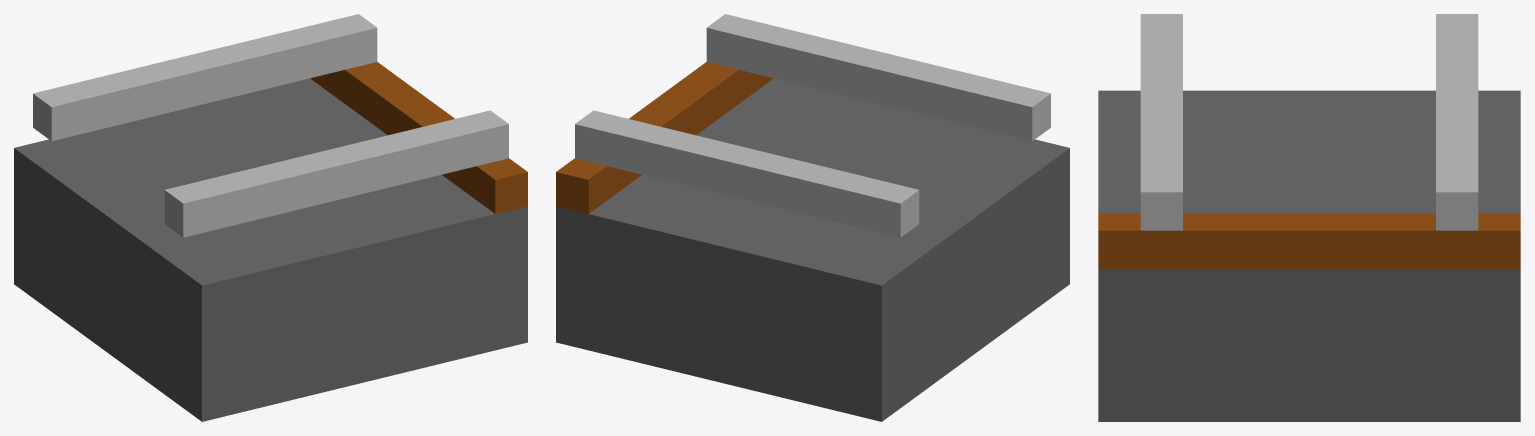
File: RailRoad0.obj
3 views of the same model, side by side, from view 1: azimuth 30°, elevation 25°; view 2: azimuth 150°, elevation 25°; view 3: azimuth 270°, elevation 25° (orthographic). The views are drawn at different scales.
Size of the model in its own units: 1 by 0.6 by 1.
1 material, 1 textured.
